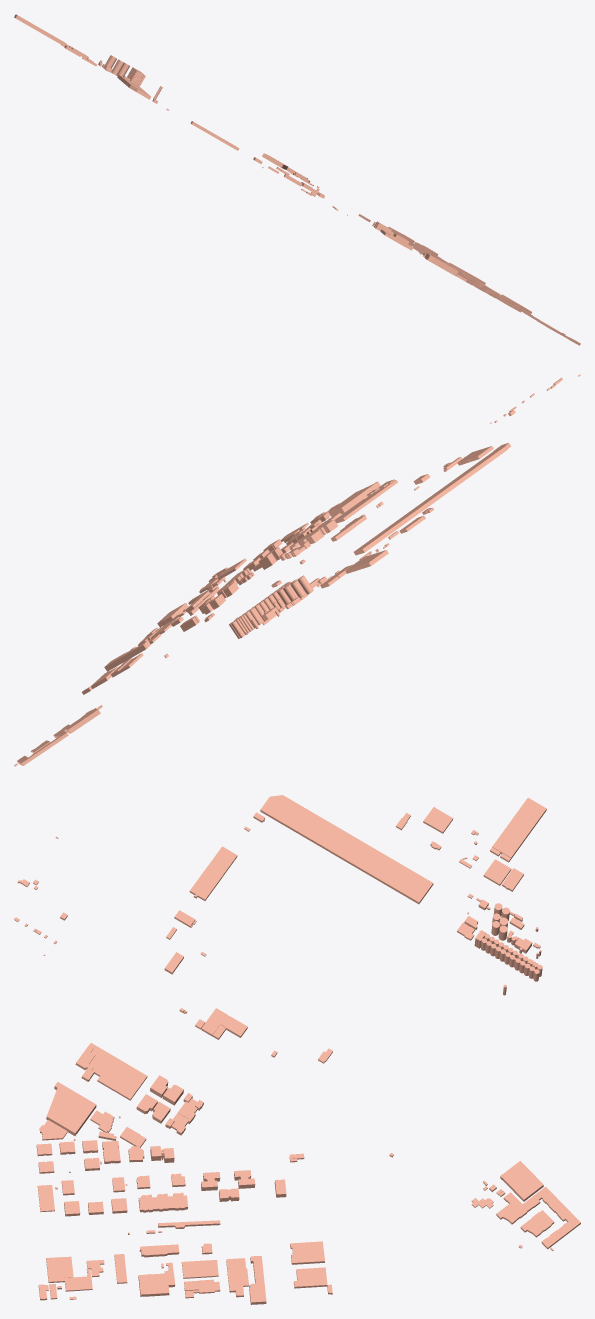
3 views of the same model, one above another, from view 1: azimuth 30°, elevation 25°; view 2: azimuth 150°, elevation 25°; view 3: azimuth 270°, elevation 25° (orthographic). The views are drawn at different scales.
Bounding box in the file's own units: 1073 × 793 × 1280.
